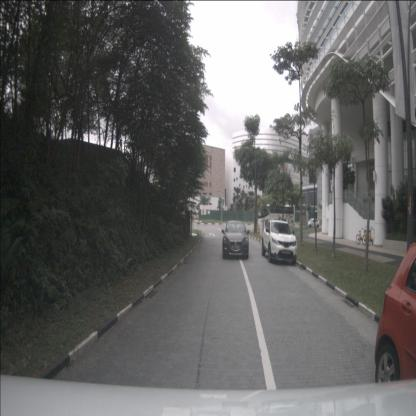vehicle-bus-rigid: (258, 204, 296, 230)
vehicle-car: (374, 243, 415, 404), (262, 220, 298, 266), (222, 220, 249, 259), (307, 218, 320, 228)
